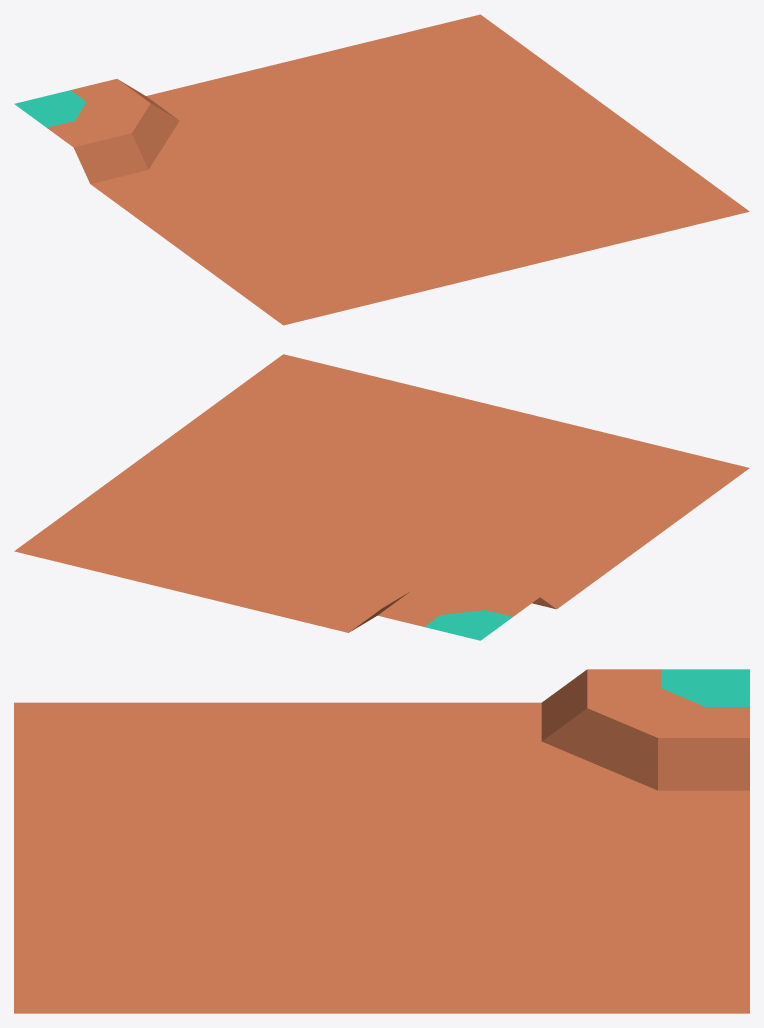
Rendered from ground_pathCornerSmall.dae.
The picture shows the model from 3 angles, top to bottom: view 1: azimuth 30°, elevation 25°; view 2: azimuth 150°, elevation 25°; view 3: azimuth 270°, elevation 25°; orthographic projection. The views are drawn at different scales.
Visible parts, largest first — view 1: ground_pathCornerSmall; view 2: ground_pathCornerSmall; view 3: ground_pathCornerSmall.
Boxes of the visible parts, box(x1,y1,x2,y2) form: ground_pathCornerSmall: box(14, 14, 749, 325); ground_pathCornerSmall: box(14, 354, 749, 640); ground_pathCornerSmall: box(14, 669, 749, 1013).
Bounding box in the file's own units: 1 × 0.05 × 1.
